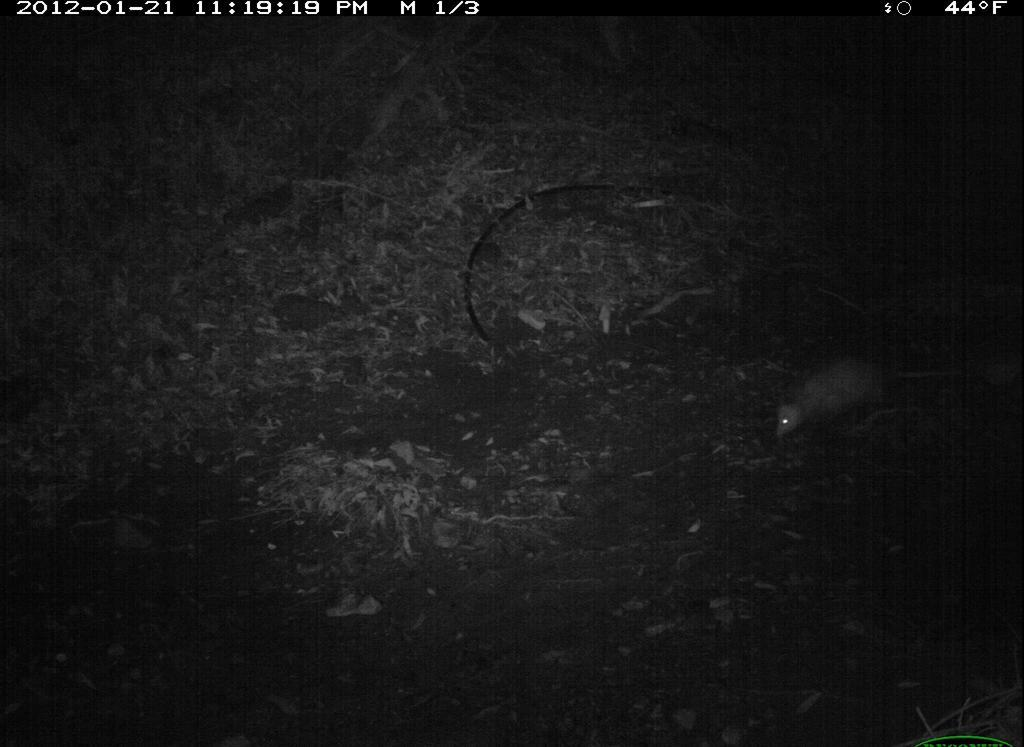opossum: (733, 331, 957, 463)
